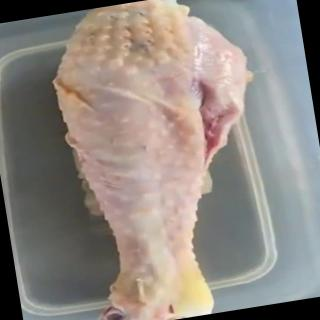Ayam: (41, 1, 290, 320)
